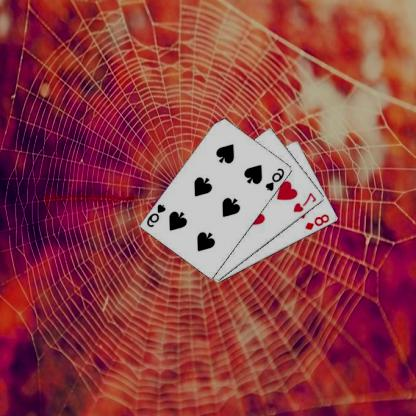6S: (146, 201, 169, 229), (265, 165, 288, 192)
7H: (292, 190, 320, 214)
8D: (304, 212, 332, 231)
